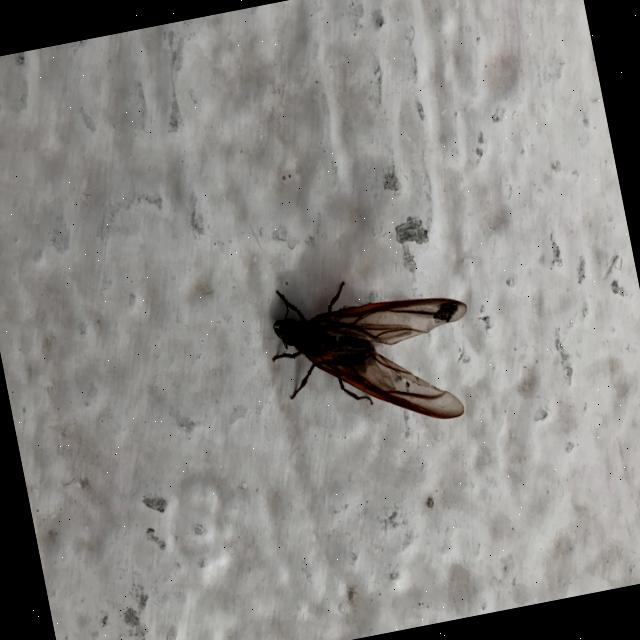Alive-Female-Alate: (260, 255, 487, 450)
